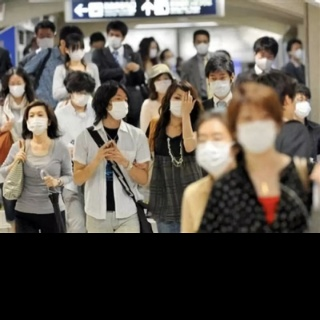with_mask: (236, 108, 278, 153), (195, 132, 233, 176), (207, 72, 232, 98), (106, 92, 129, 120), (168, 92, 192, 118), (26, 109, 49, 136), (292, 94, 311, 118), (254, 50, 276, 70), (153, 76, 172, 94), (71, 89, 90, 107), (36, 32, 55, 49), (8, 80, 25, 98), (106, 31, 123, 48), (68, 44, 86, 60), (195, 37, 209, 55), (292, 44, 303, 60), (165, 52, 176, 67), (148, 44, 158, 57)
